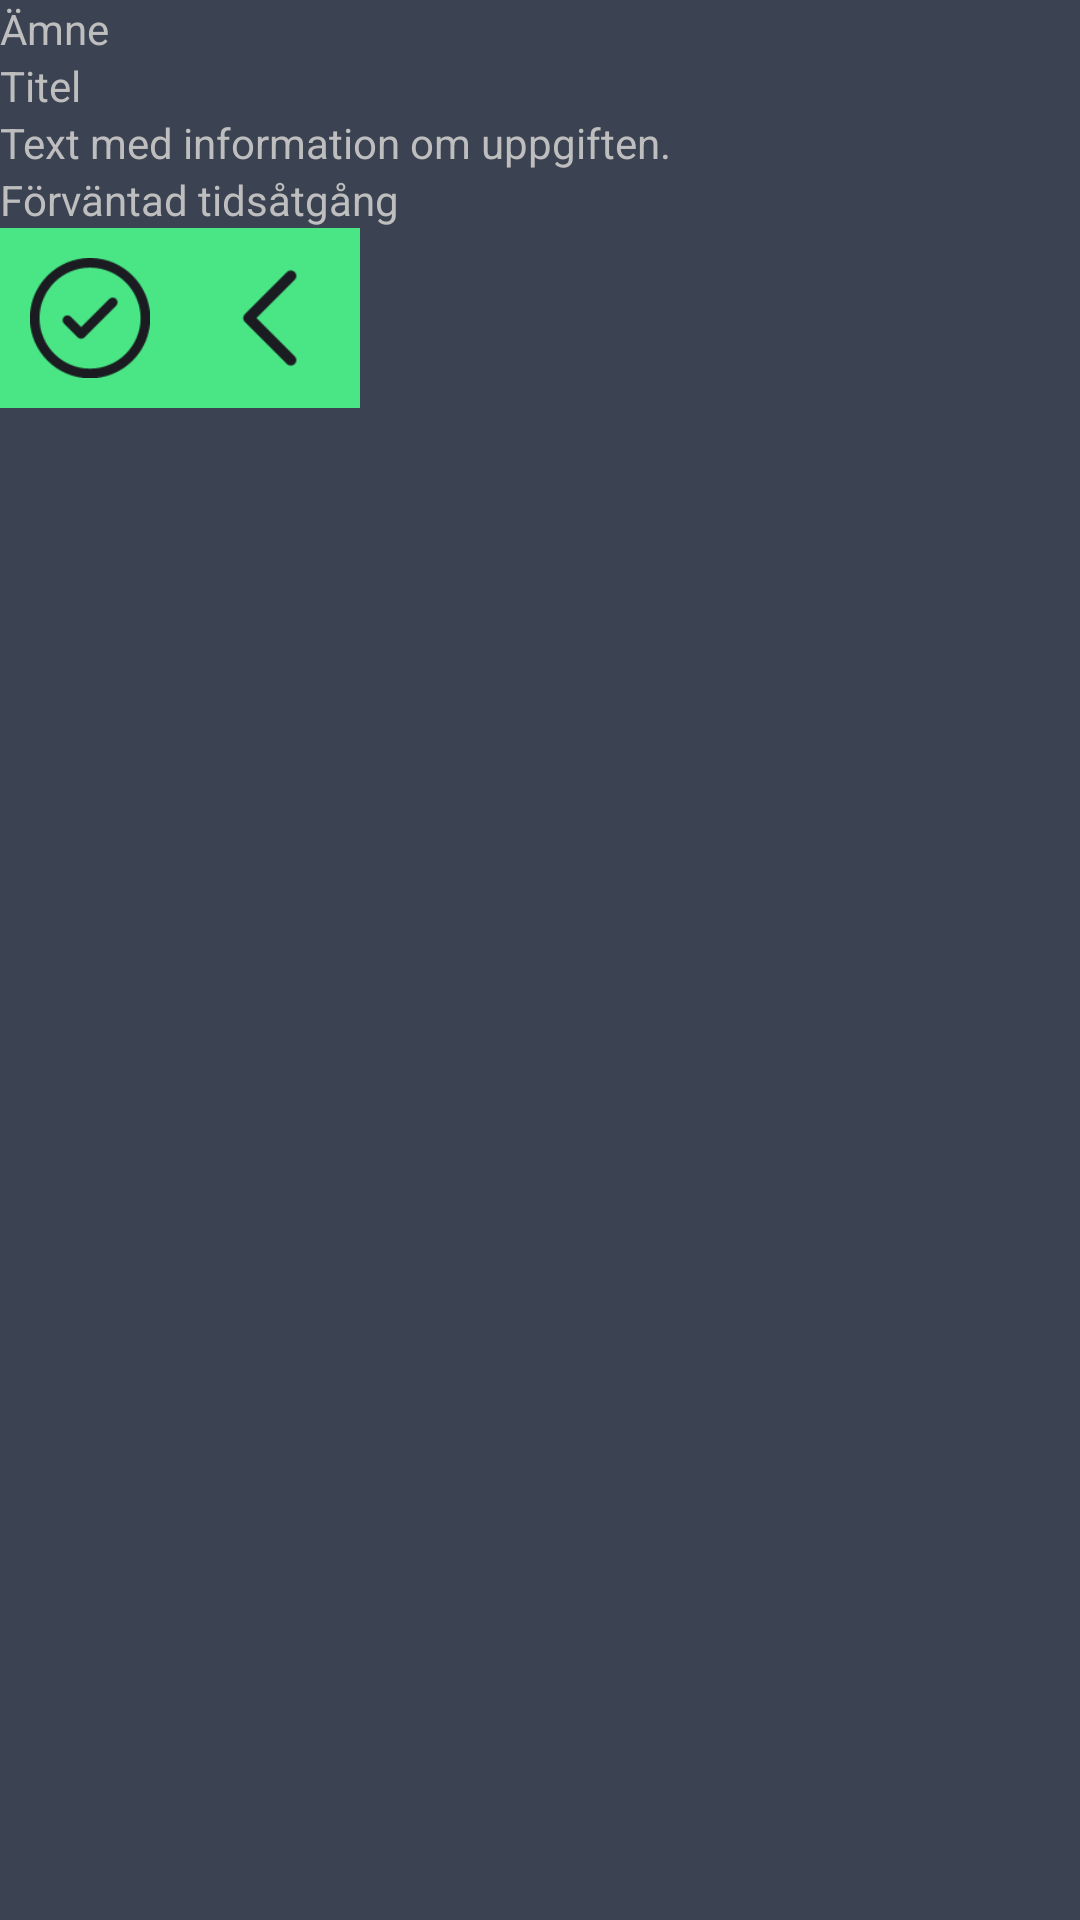

Where icons sit on this 1080w x 1920h app screen, as (x1, y1, x2, y2):
arrow left: (242, 270, 297, 366)
done: (30, 258, 150, 378)
